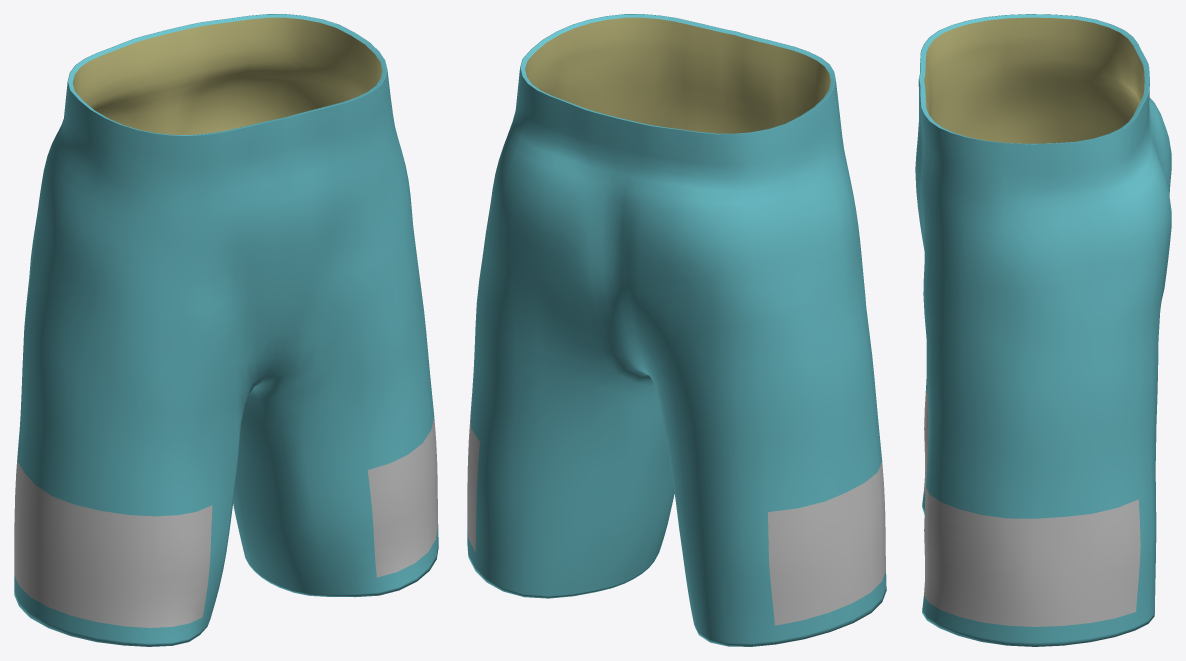
The picture shows the model from 3 angles, left to right: view 1: azimuth 30°, elevation 25°; view 2: azimuth 150°, elevation 25°; view 3: azimuth 270°, elevation 25°; orthographic projection. The views are drawn at different scales.
Visible parts, largest first — view 1: _main, _reverse; view 2: _main, _reverse; view 3: _main, _reverse.
Part boxes in pixels (x1=…): _main: x1=14, y1=14, x2=438, y2=646; _reverse: x1=72, y1=17, x2=382, y2=134; _main: x1=467, y1=14, x2=886, y2=646; _reverse: x1=525, y1=17, x2=830, y2=133; _main: x1=915, y1=14, x2=1171, y2=646; _reverse: x1=924, y1=17, x2=1144, y2=143.
Bounding box in the file's own units: 0.7391 × 0.9209 × 0.435.
